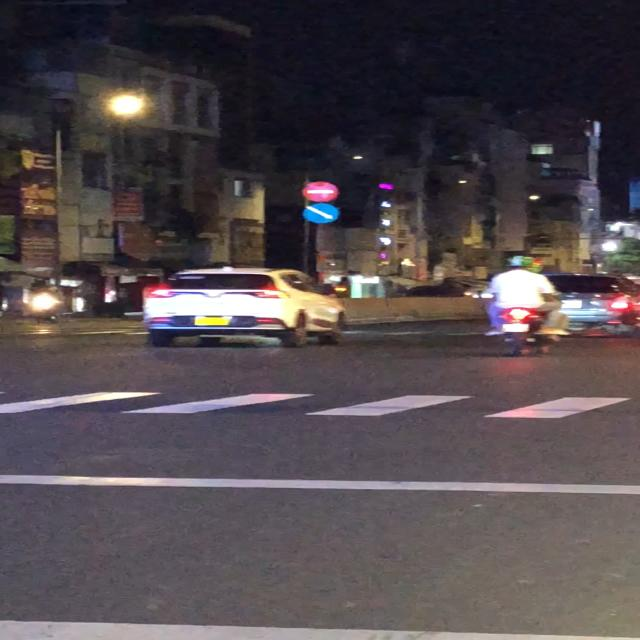Bien bao cam di nguoc chieu: (302, 180, 341, 202)
Bien bao huong phai di vong chuong ngai vat: (302, 203, 343, 224)
